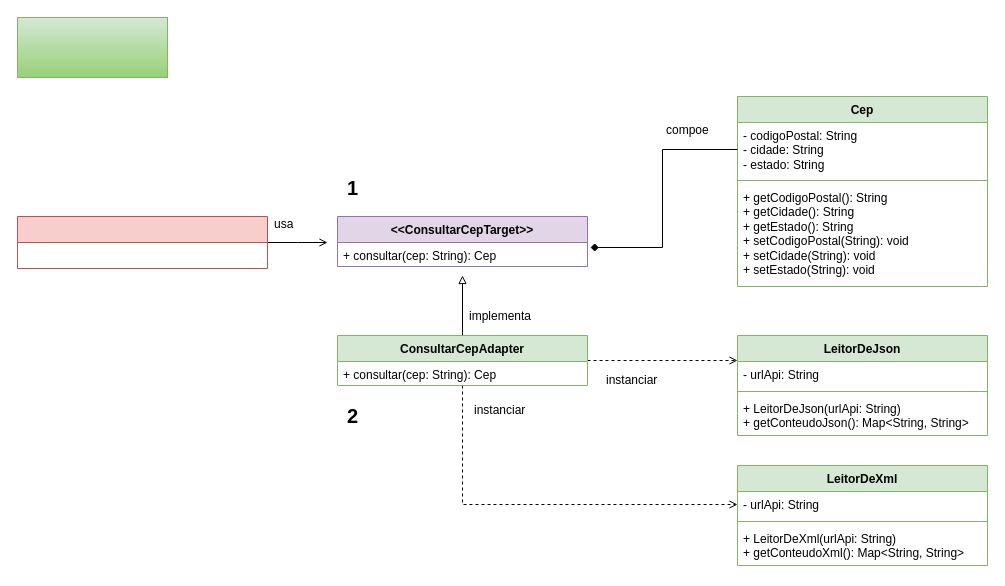
The diagram is 1005 pixels wide and 586 high, and some of its shapes have lost their labels. The centre of each missing label's shape, as x and y in pixels:
Adapter: point (92, 47)
Cliente: point (142, 242)
